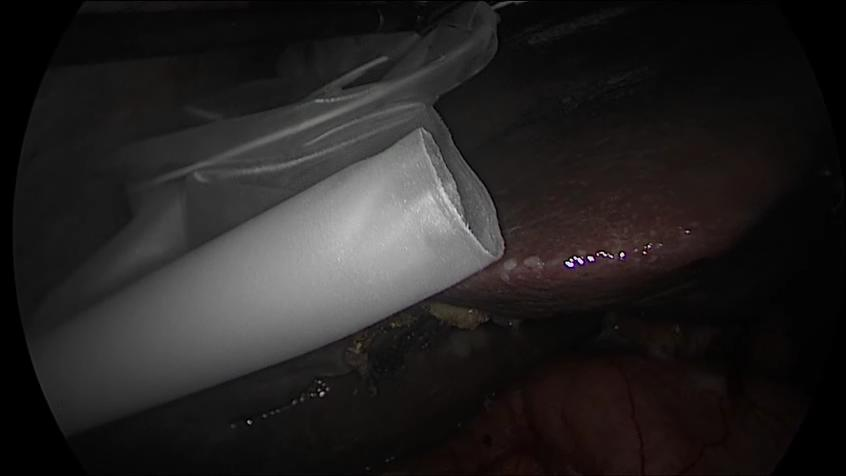SpecimenBag: (56, 39, 540, 450)
